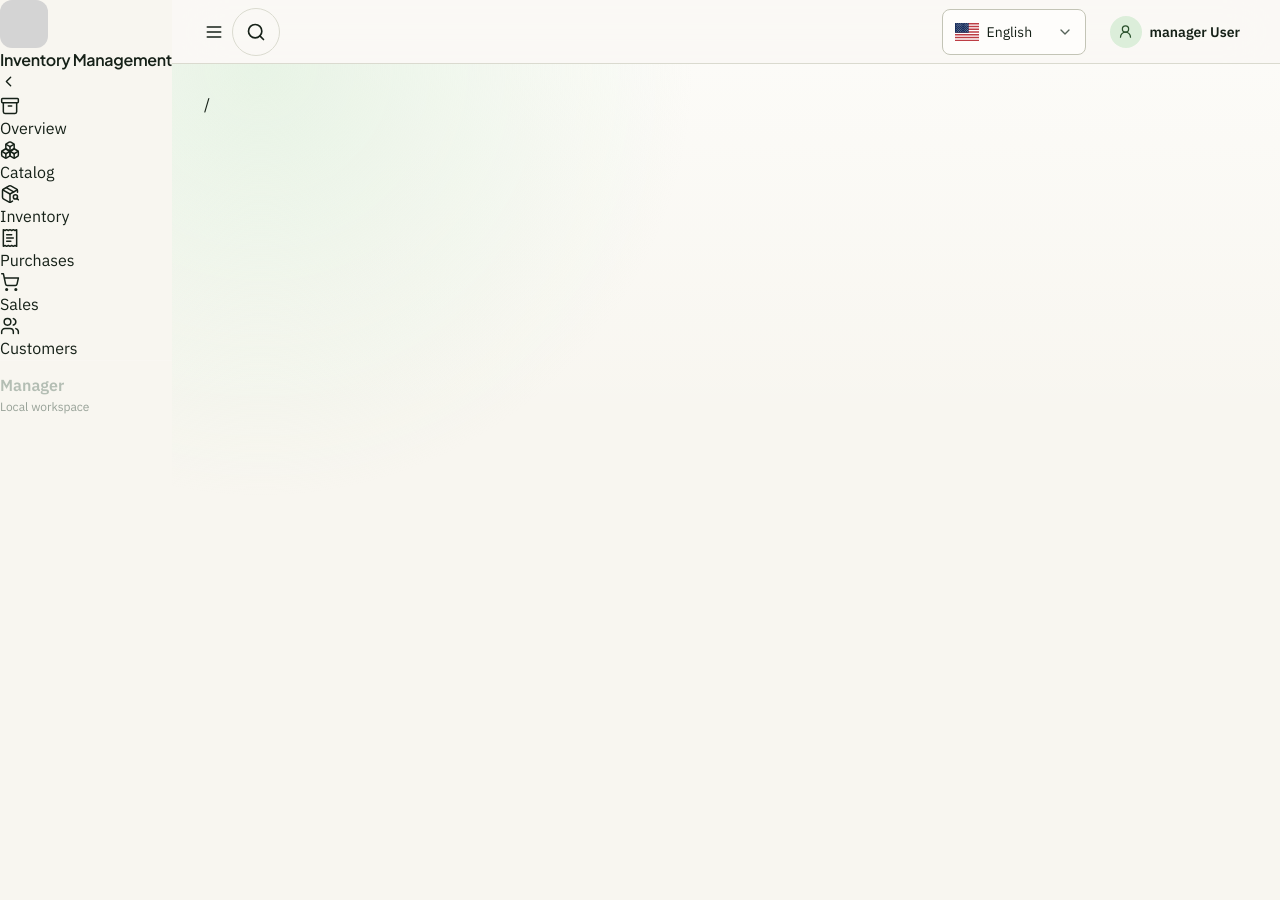
AppShell global product search › renders the product-search API error
Type keys "/"
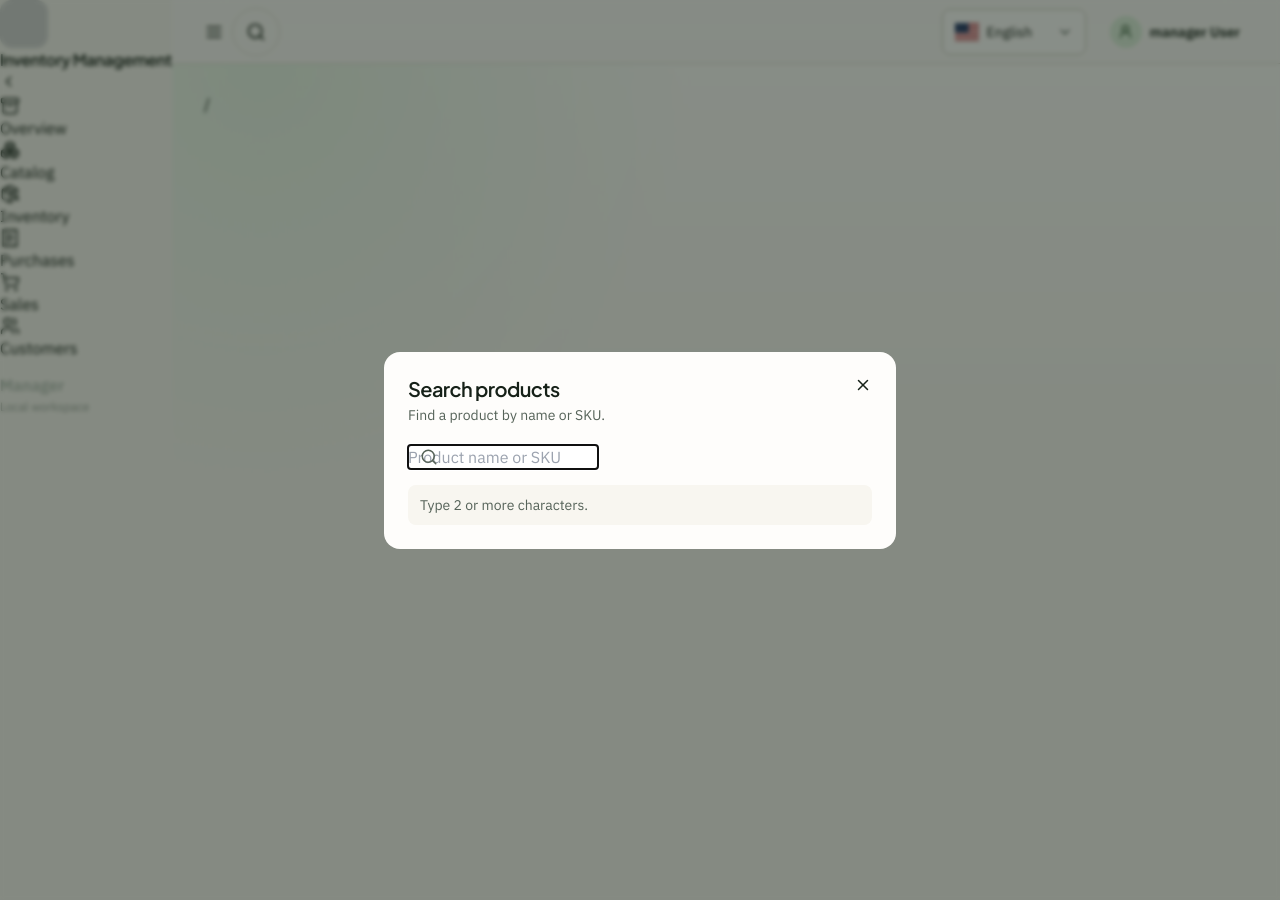
Type "no" into the field named "Search products" at x=503, y=456, box [408,444,598,468]
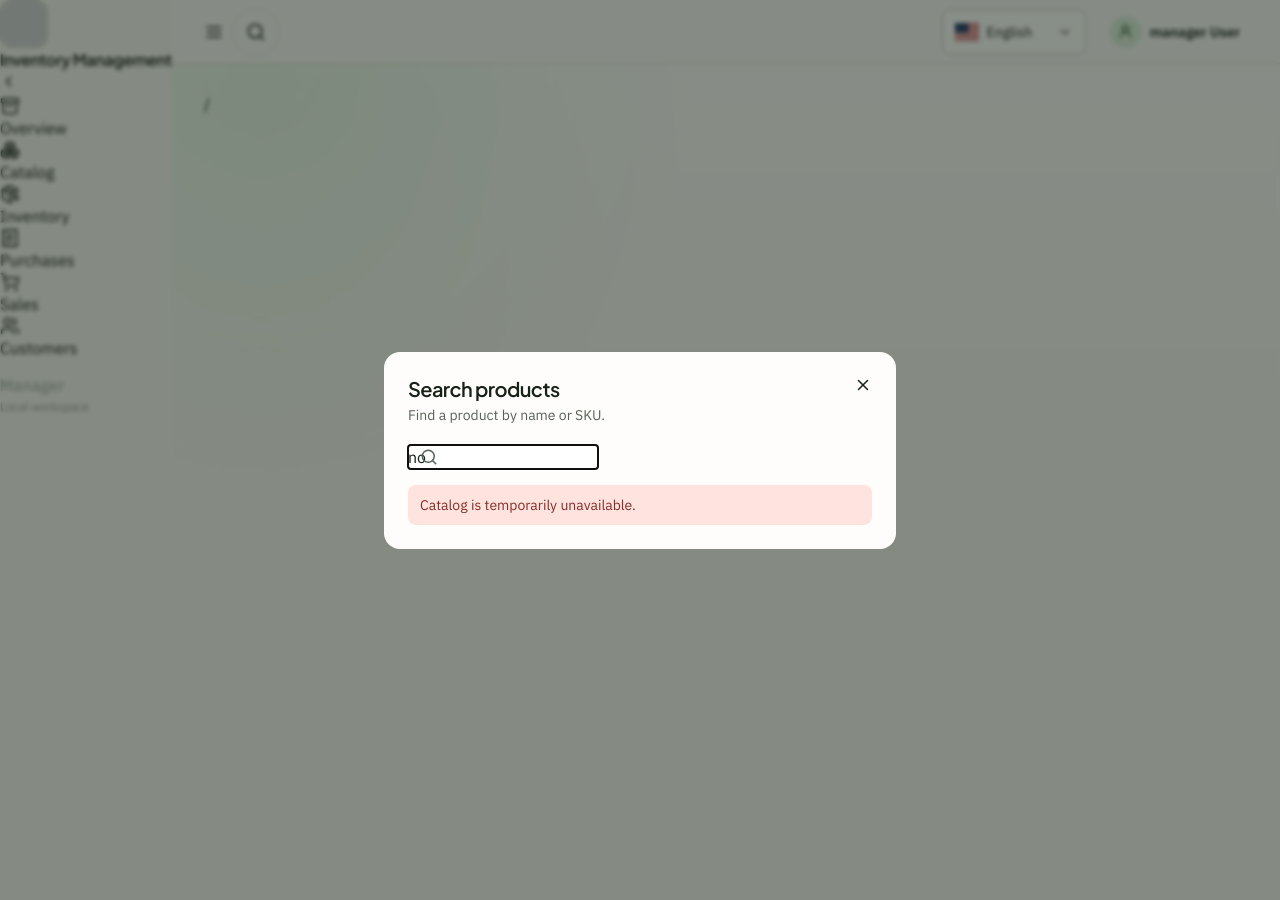
Expected: the text "Catalog is temporarily unavailable." is shown, [408,484,872,524]
